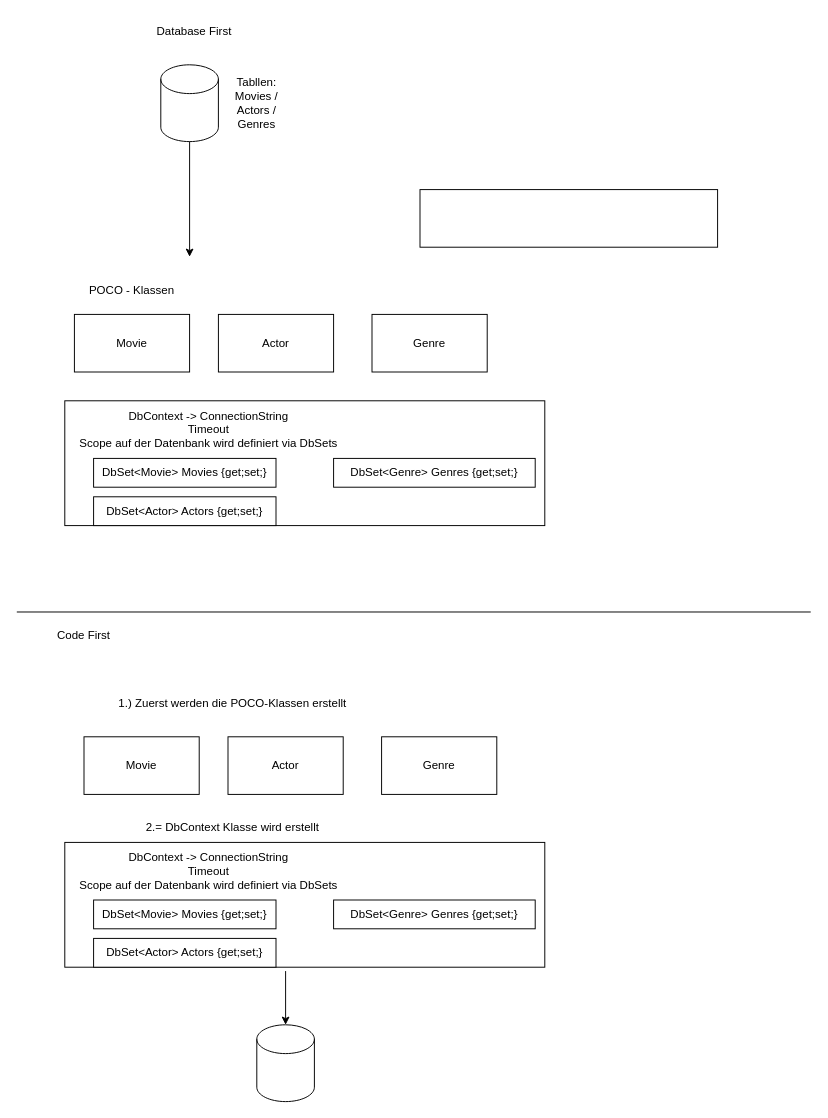
Some shapes in this 828 by 1118 pixel diagram are drawn without their labels. The centre of each missing label's shape, as x and y in pixels:
"DB wird erstellt" belongs at point 285,1063.
"Metadatei /edmx-Datei) (nur im alten Entity Framework enthalten)" belongs at point 568,218.
"MovieDb" belongs at point 189,103.
